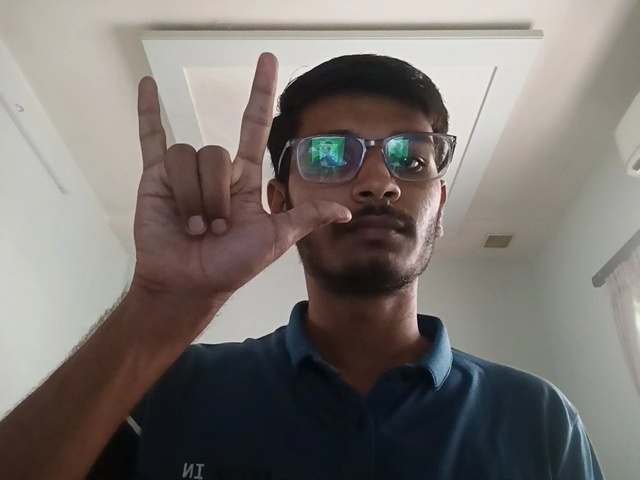I Love You: (122, 46, 355, 311)
